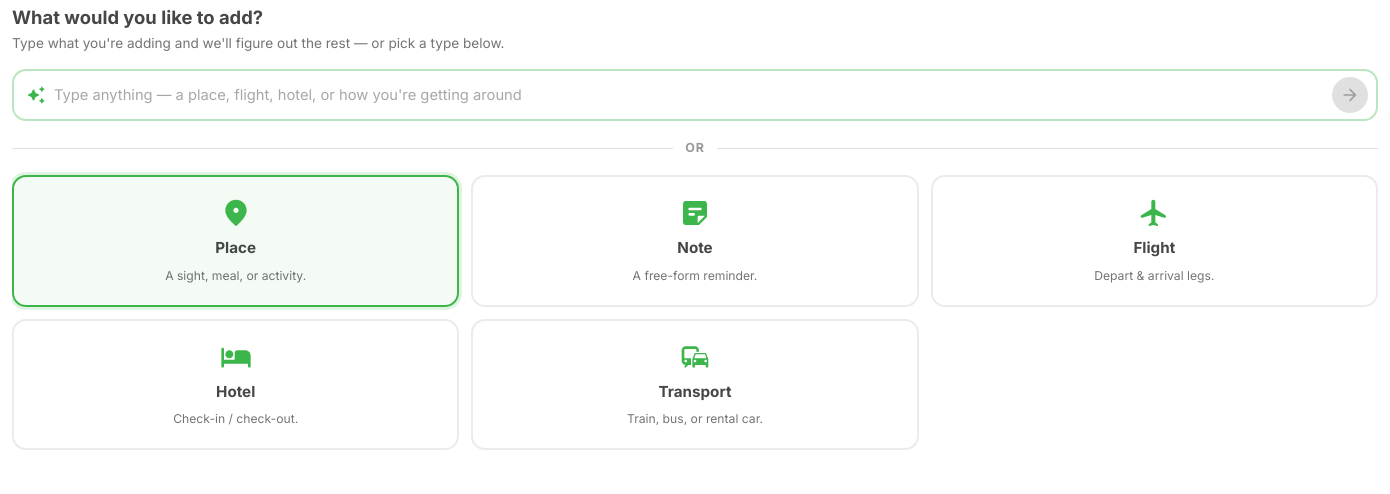
Scenario: TypeStep › classifies "UA123 tomorrow" as Flight in the smart box
Type "UA123 tomorrow" into the field with placeholder "Type anything" at (689, 95), box [54,78,1324,112]
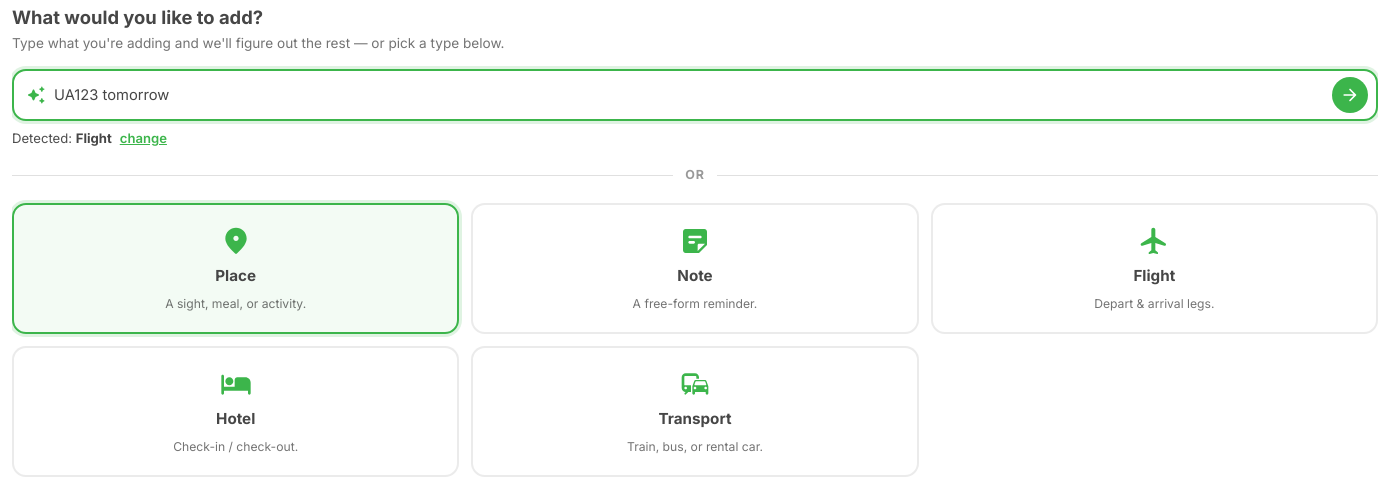
Check: the text "Flight" next to "Detected:" is shown, box [76,130,112,146]
